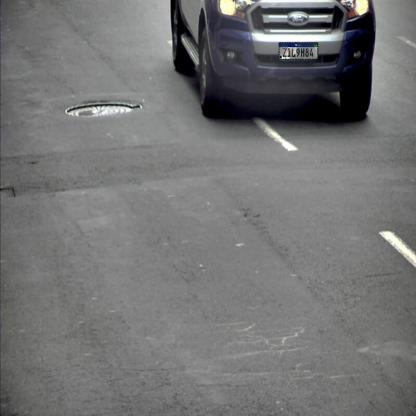PlacaM: (279, 42, 318, 60)
